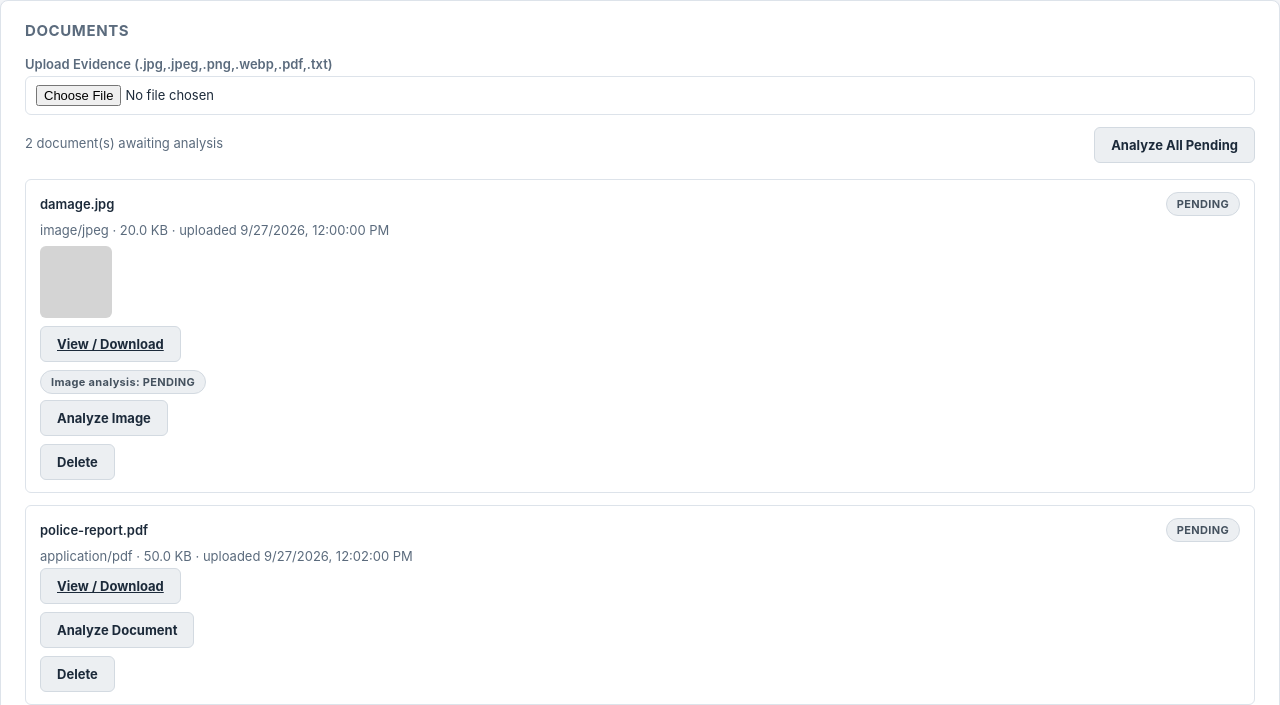
Scenario: DocumentsPanel › shows an Analyze All Pending button when documents are eligible and reports per-document results
The width and height of the screenshot is (1280, 705).
Click the button "Analyze All Pending".
click(1175, 145)  # box [1094,127,1255,163]
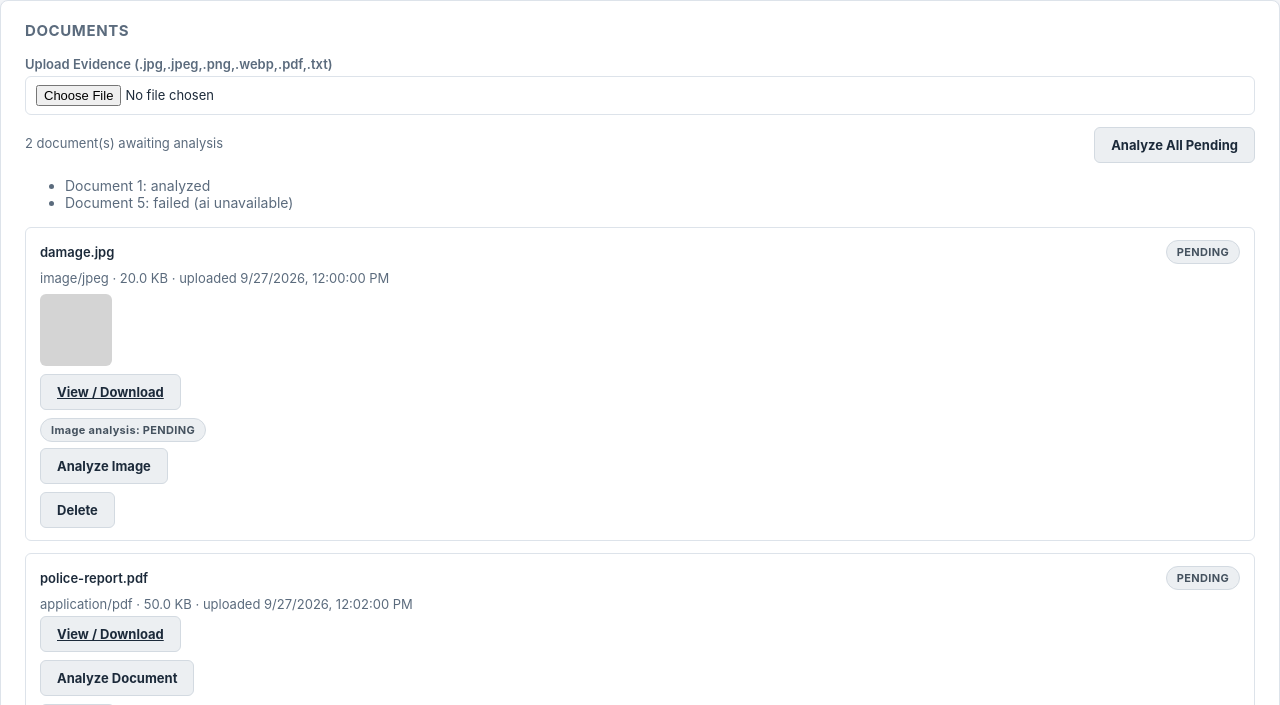
Now the list item "Document 1: analyzed" is shown, box [65,177,210,194]
Now the list item "Document 5: failed (ai unavailable)" is shown, box [65,194,294,211]
